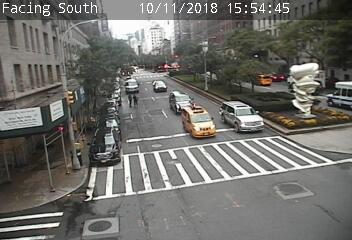car: (219, 101, 264, 134), (183, 107, 215, 140), (169, 91, 193, 114), (153, 80, 165, 92)
